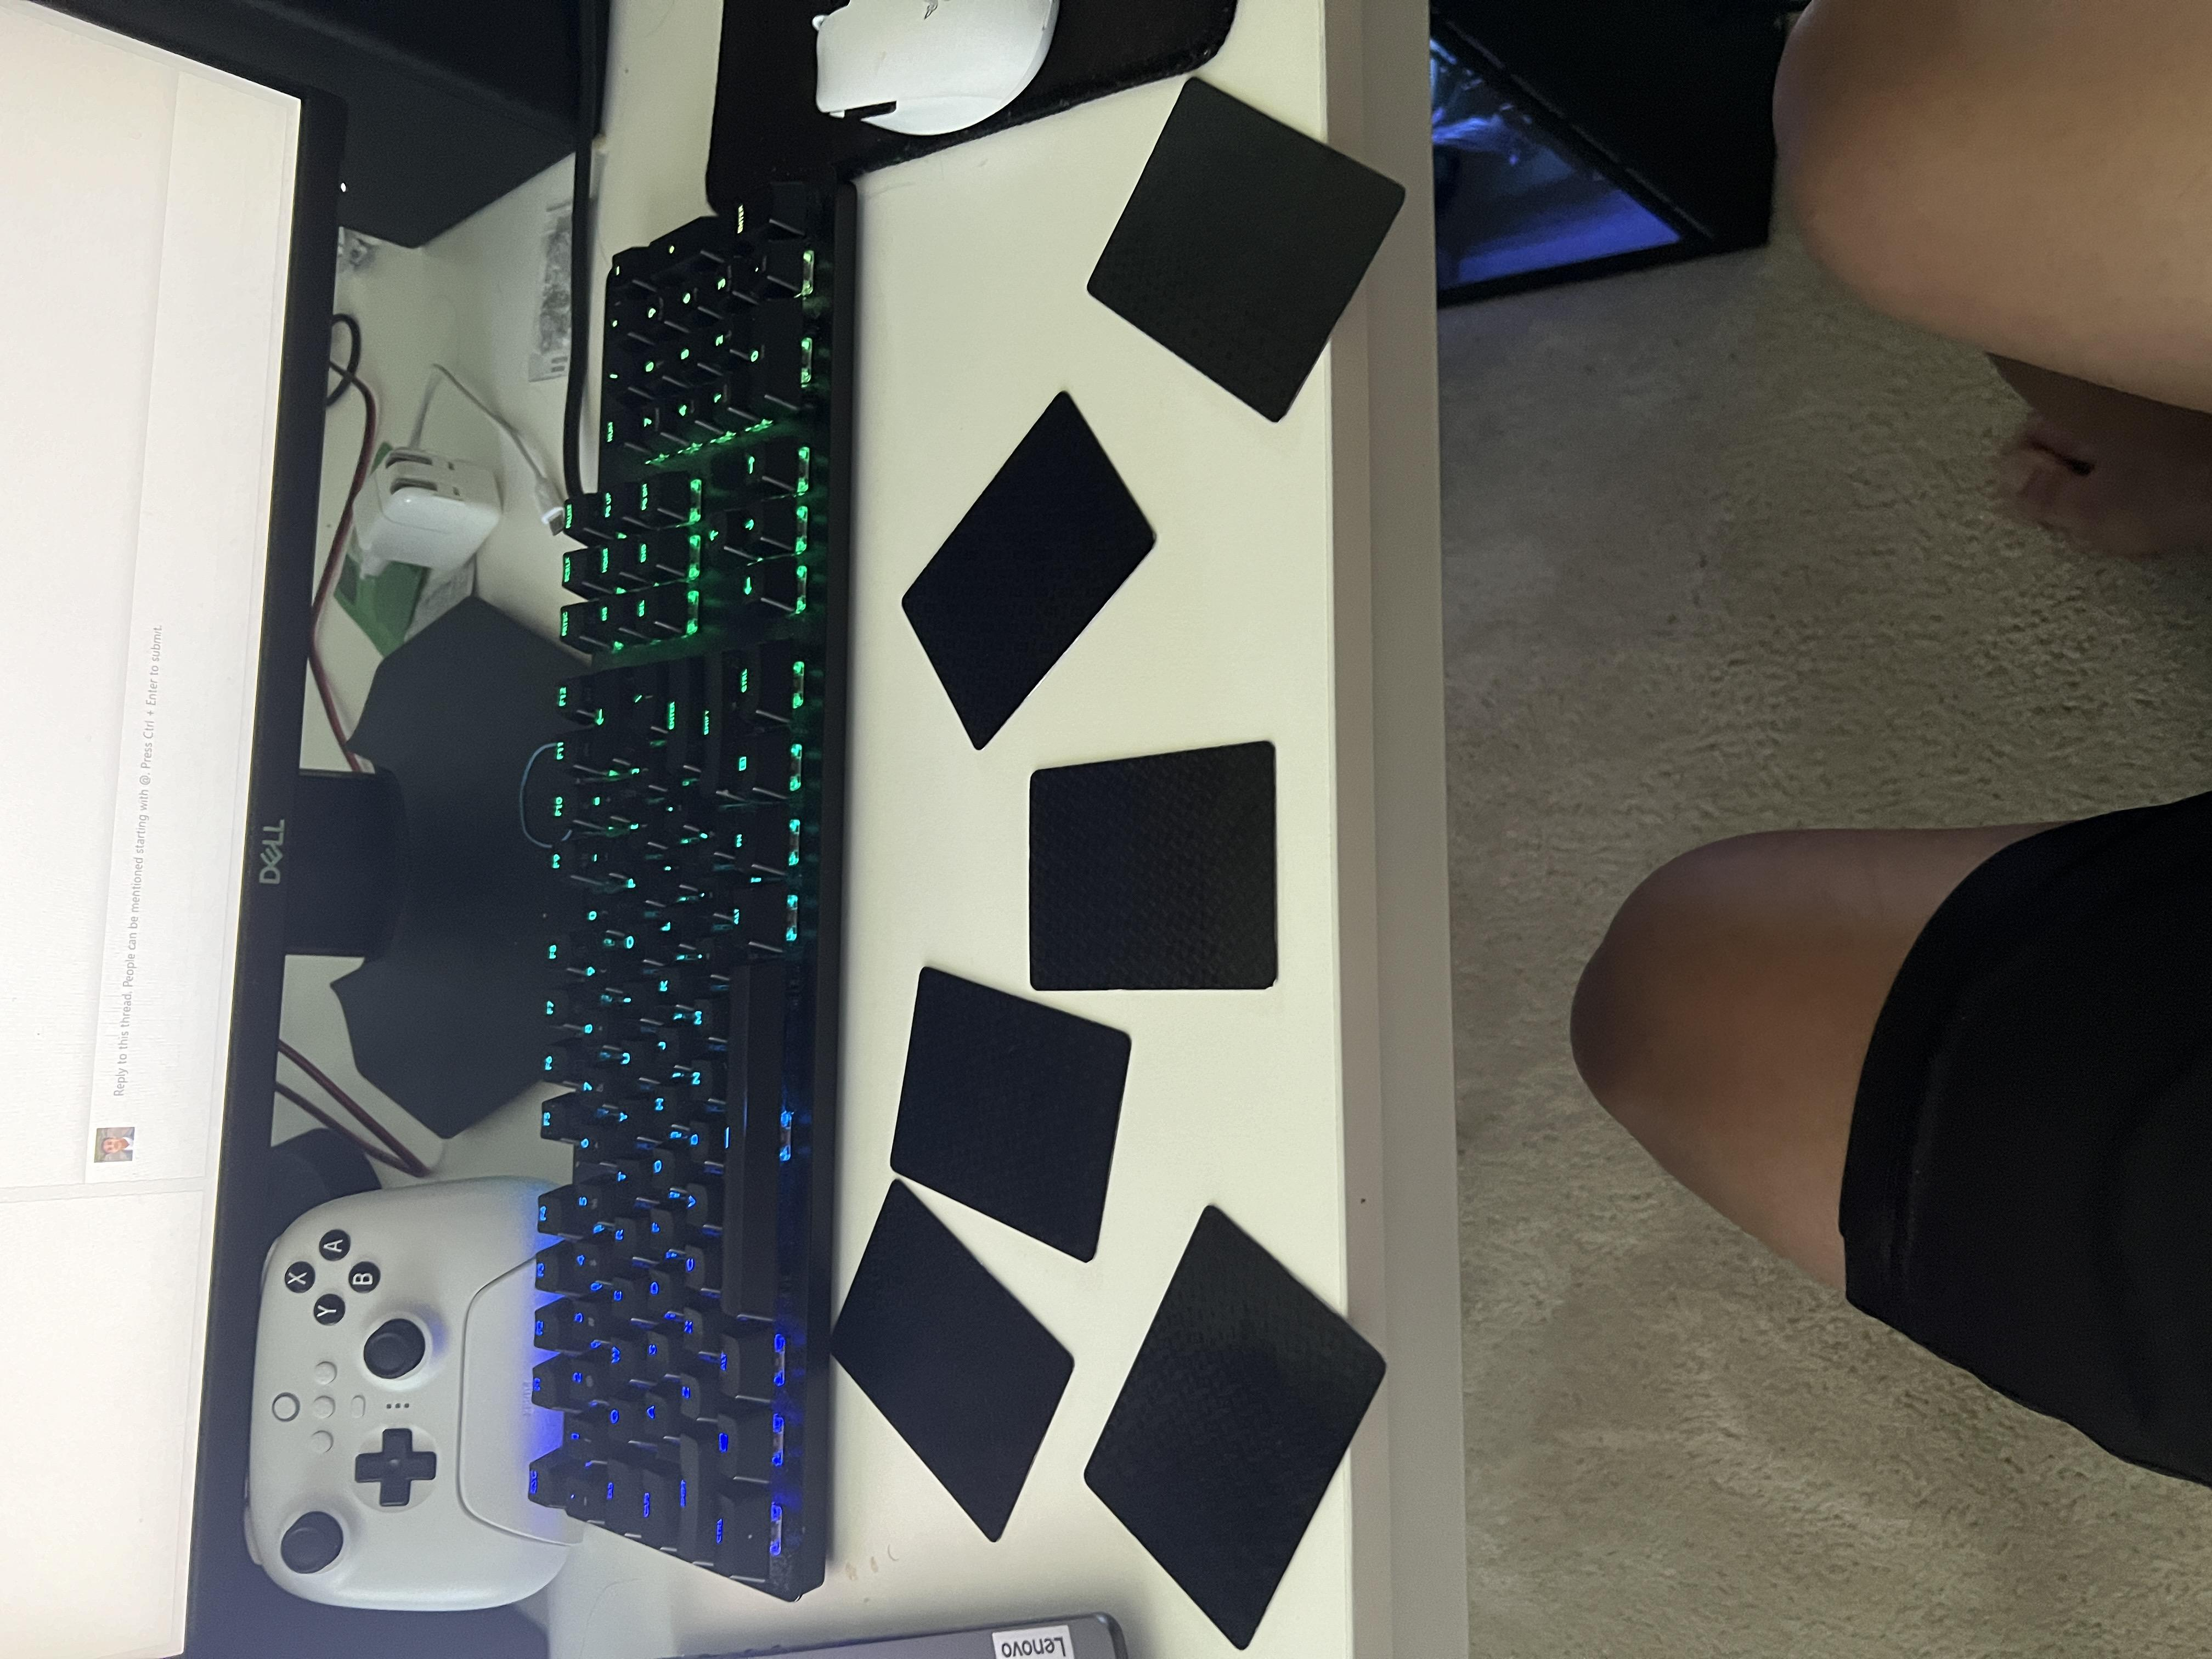BACK: (14, 796, 644, 1060), (1649, 800, 2114, 1068), (1204, 671, 1705, 880), (157, 613, 651, 812), (881, 760, 1261, 972), (523, 662, 937, 856)
